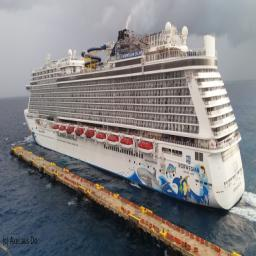cruises: (18, 19, 249, 217)
